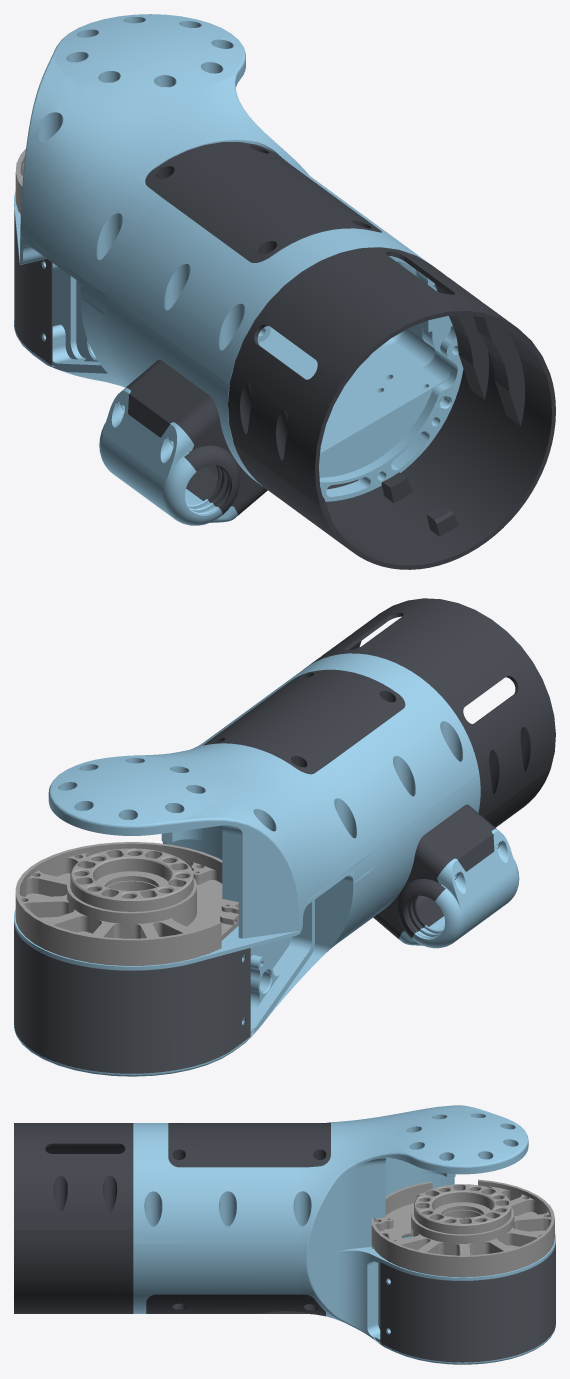
File: RIGHT_SHOULDER_YAW_LINK.obj
3 views of the same model, one above another, from view 1: azimuth 30°, elevation 25°; view 2: azimuth 150°, elevation 25°; view 3: azimuth 270°, elevation 25° (orthographic). The views are drawn at different scales.
Size of the model in its own units: 0.1204 by 0.0987 by 0.2468.
